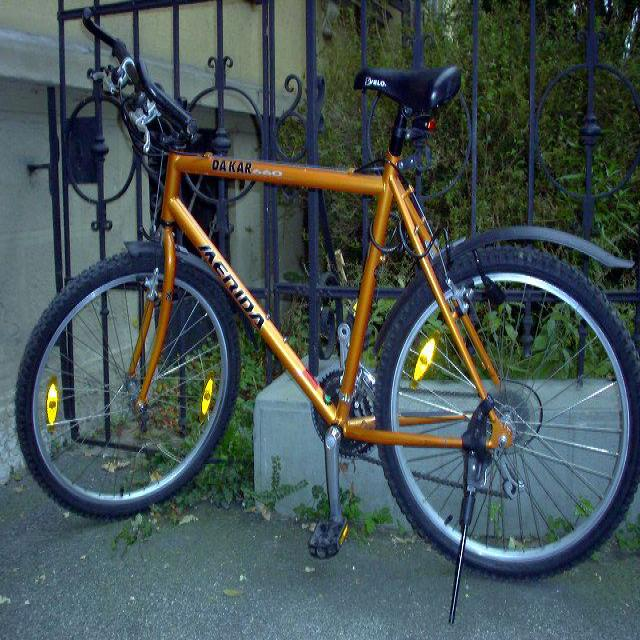bicycle: (13, 4, 638, 617)
